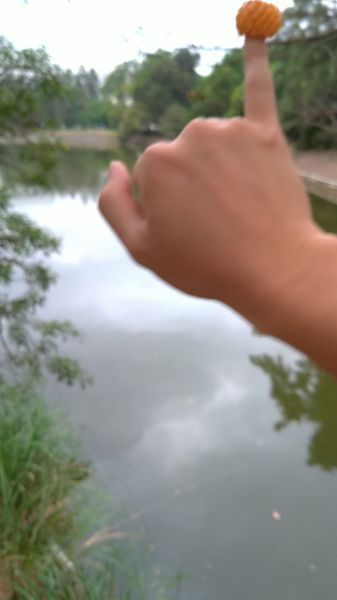eggs: (234, 1, 284, 40)
